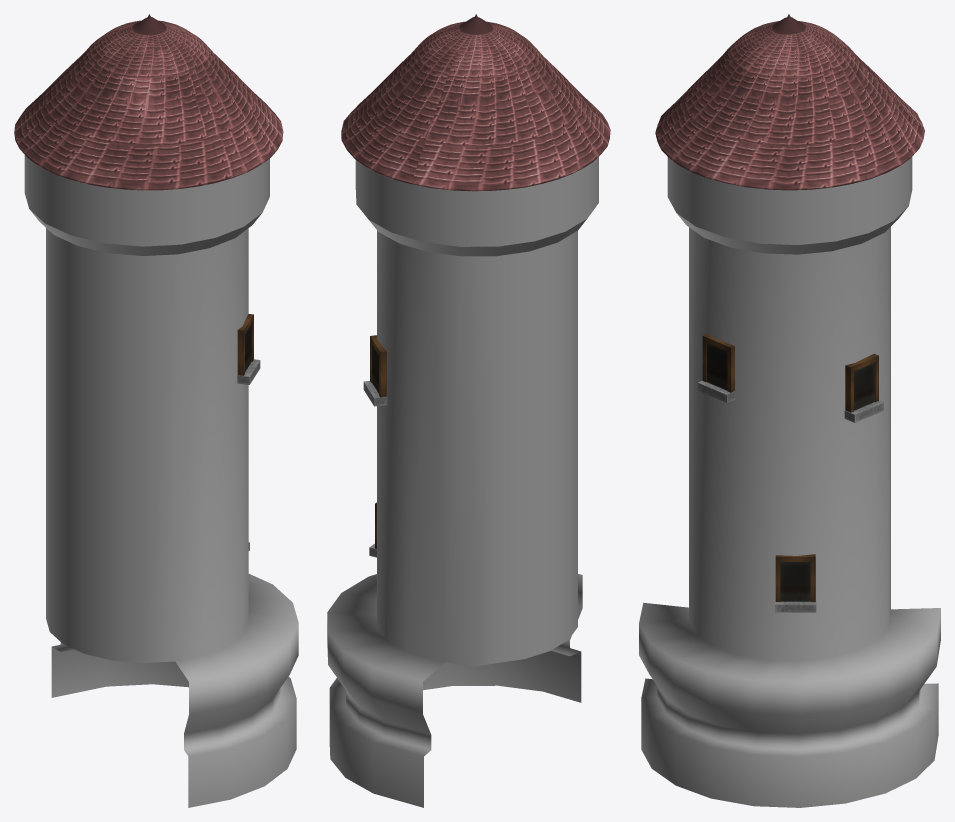
File: tower.fbx
3 renders of one model, left to right at view 1: azimuth 30°, elevation 25°; view 2: azimuth 150°, elevation 25°; view 3: azimuth 270°, elevation 25°, orthographic.
Visible parts, largest first — view 1: pCylinder4, pCone2, pPlane19; view 2: pCylinder4, pCone2, pPlane18; view 3: pCylinder4, pCone2, pPlane17, pPlane18, pPlane19.
Part boxes in pixels (bbox=[...]): pCylinder4: bbox=[24, 155, 298, 807]; pCone2: bbox=[14, 14, 283, 190]; pPlane19: bbox=[237, 314, 260, 384]; pCylinder4: bbox=[327, 157, 598, 807]; pCone2: bbox=[341, 14, 610, 191]; pPlane18: bbox=[363, 335, 387, 406]; pCylinder4: bbox=[639, 157, 940, 807]; pCone2: bbox=[655, 14, 924, 190]; pPlane17: bbox=[775, 554, 816, 612]; pPlane18: bbox=[844, 354, 883, 422]; pPlane19: bbox=[697, 334, 735, 402].
Bounding box in the file's own units: 7.13 × 20.3 × 7.58.
